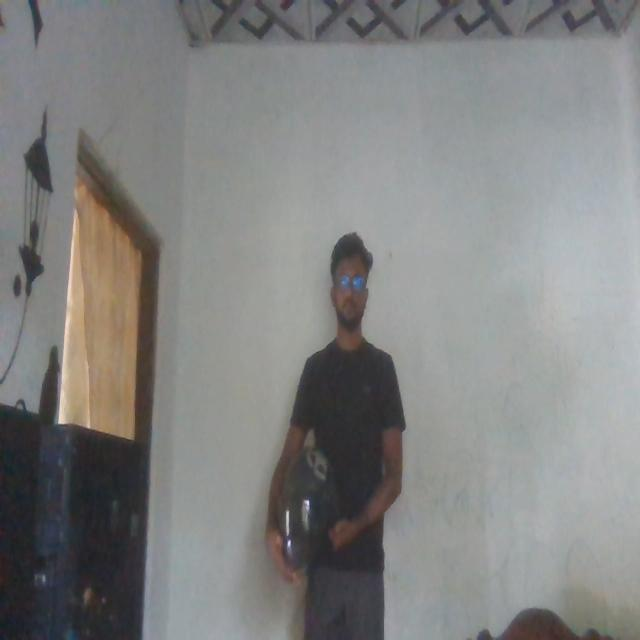Person: (281, 221, 407, 640)
